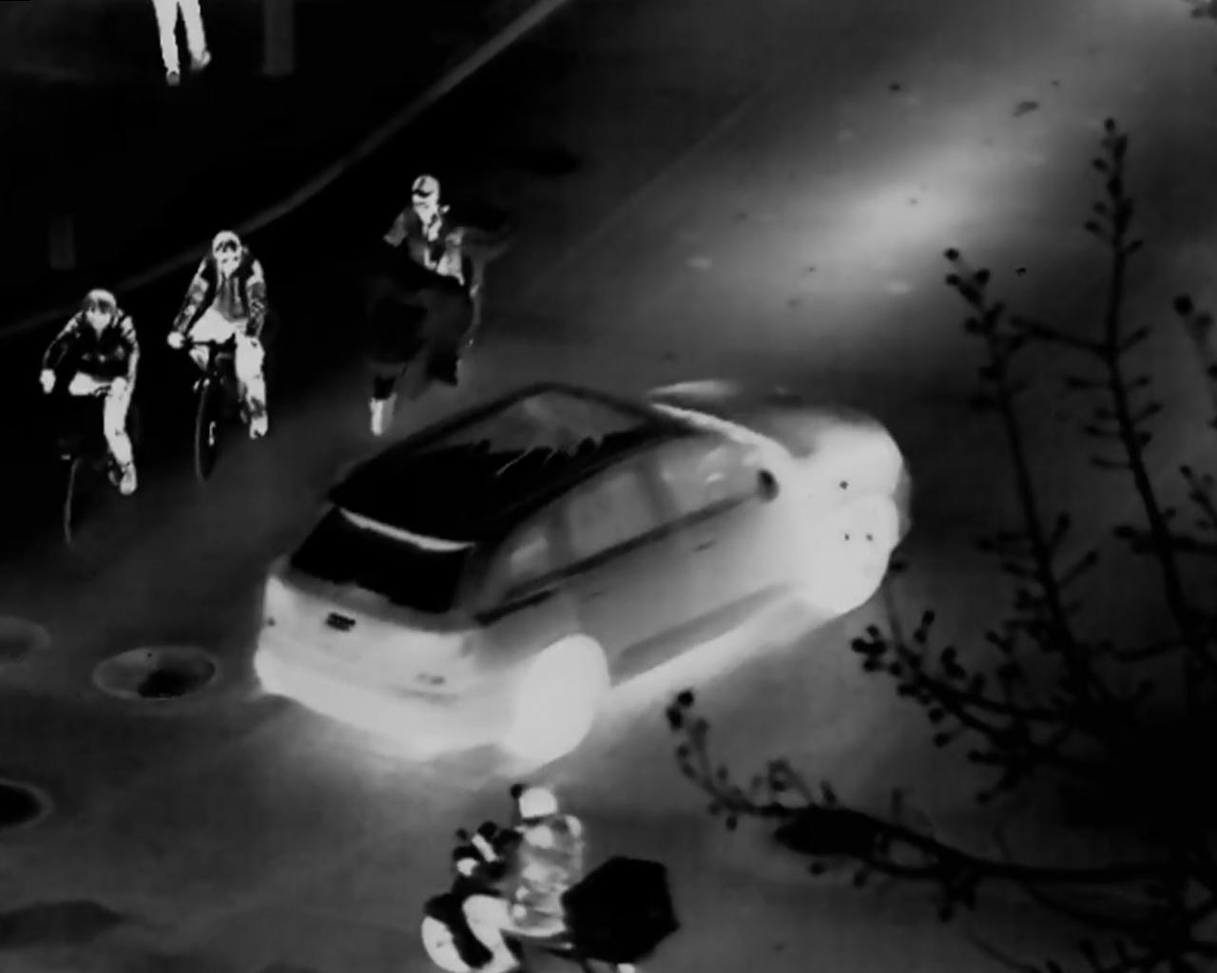person: (456, 785, 585, 973), (167, 230, 267, 441), (38, 287, 139, 494), (383, 175, 464, 286)
